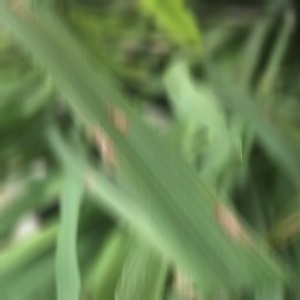Brown_Spot: (196, 196, 282, 251), (79, 124, 124, 166), (99, 94, 150, 131)
